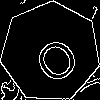O: (25, 27, 83, 87)
